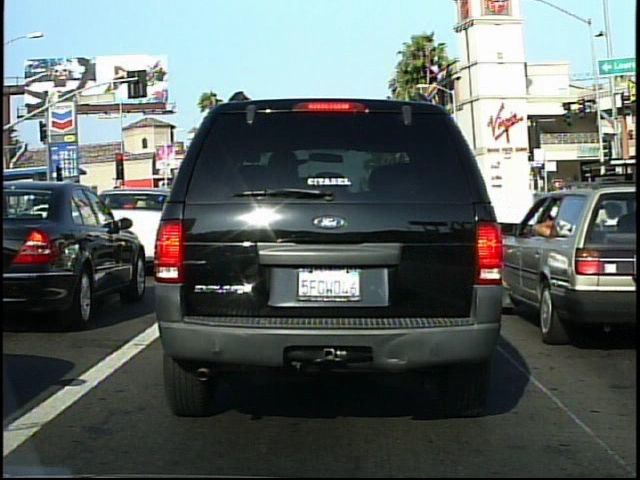person: (588, 183, 617, 240), (557, 182, 578, 237)
